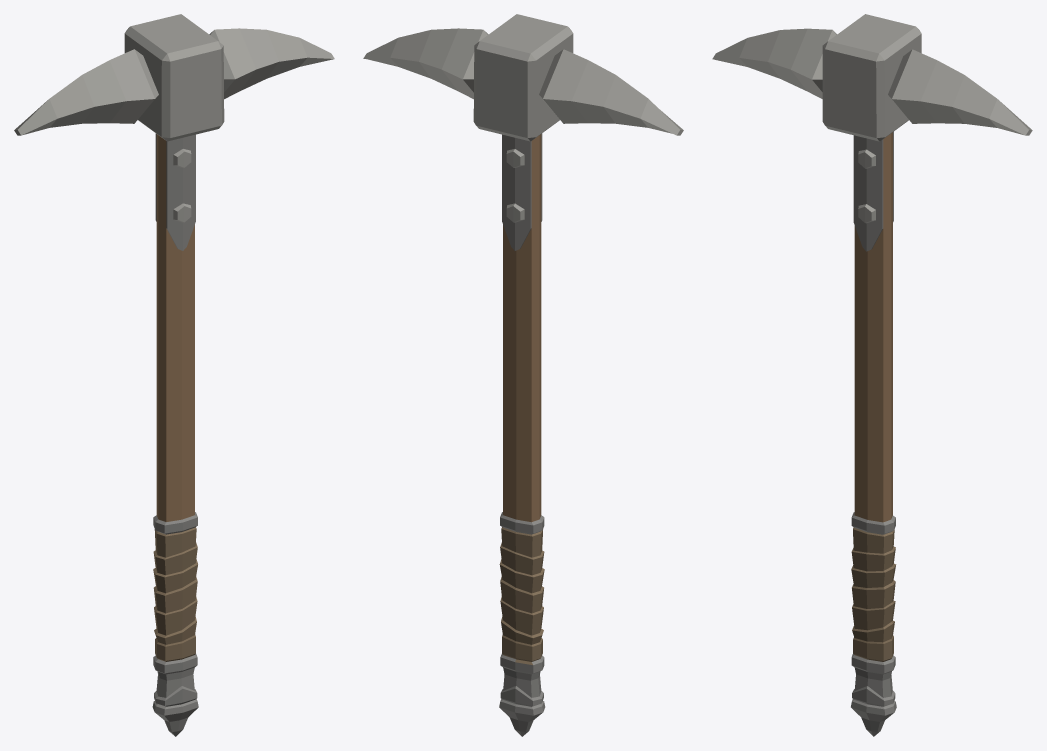
File: SM_pwe_fantasy_hammer_01.fbx
The picture shows the model from 3 angles, left to right: view 1: azimuth 30°, elevation 25°; view 2: azimuth 150°, elevation 25°; view 3: azimuth 330°, elevation 25°; orthographic projection.
Parts seen in each view (by area): view 1: SM_pwe_fantasy_hammer_01; view 2: SM_pwe_fantasy_hammer_01; view 3: SM_pwe_fantasy_hammer_01.
Boxes of the visible parts, box(x1,y1,x2,y2) form: SM_pwe_fantasy_hammer_01: box(14, 14, 334, 736); SM_pwe_fantasy_hammer_01: box(363, 14, 683, 736); SM_pwe_fantasy_hammer_01: box(712, 14, 1032, 736).
Size of the model in its own units: 42.86 by 91.86 by 10.29.
